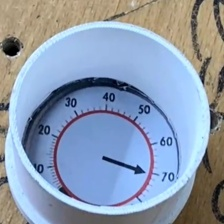gauge: (26, 79, 179, 208)
